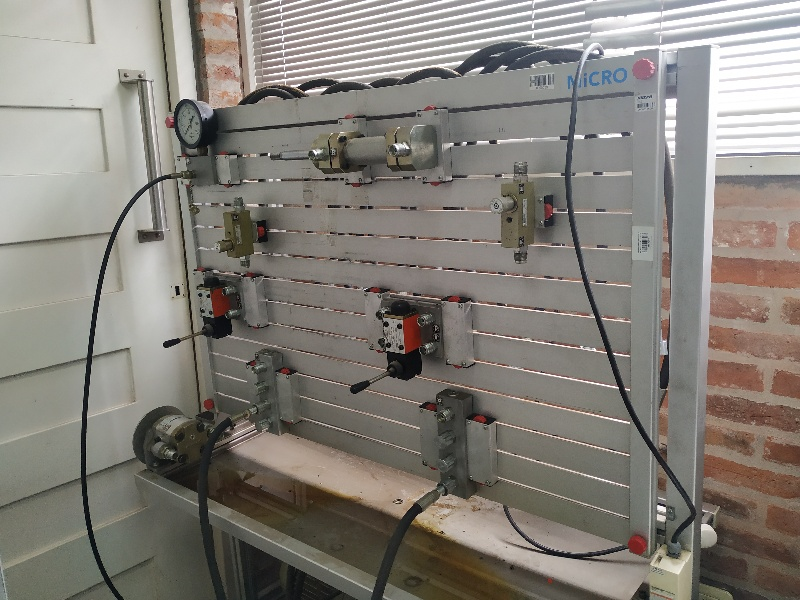Tablero 5: (177, 99, 661, 549)
